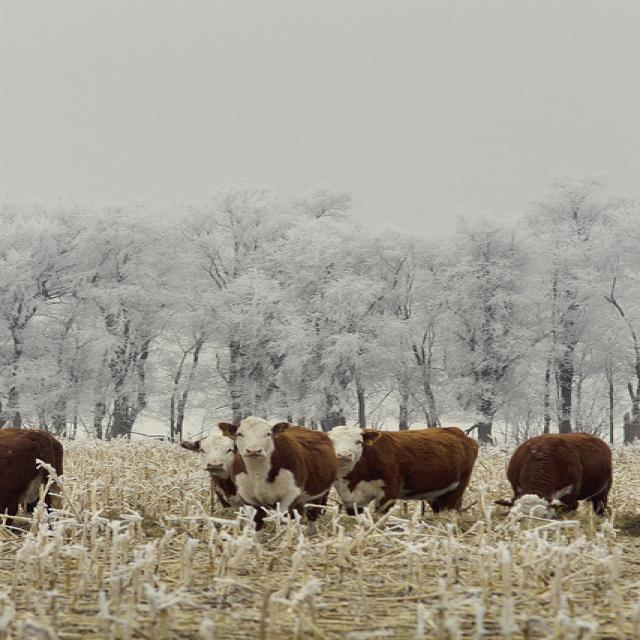cow: (321, 425, 478, 515), (214, 414, 342, 522), (487, 429, 612, 530), (0, 426, 60, 531), (180, 434, 241, 506)
